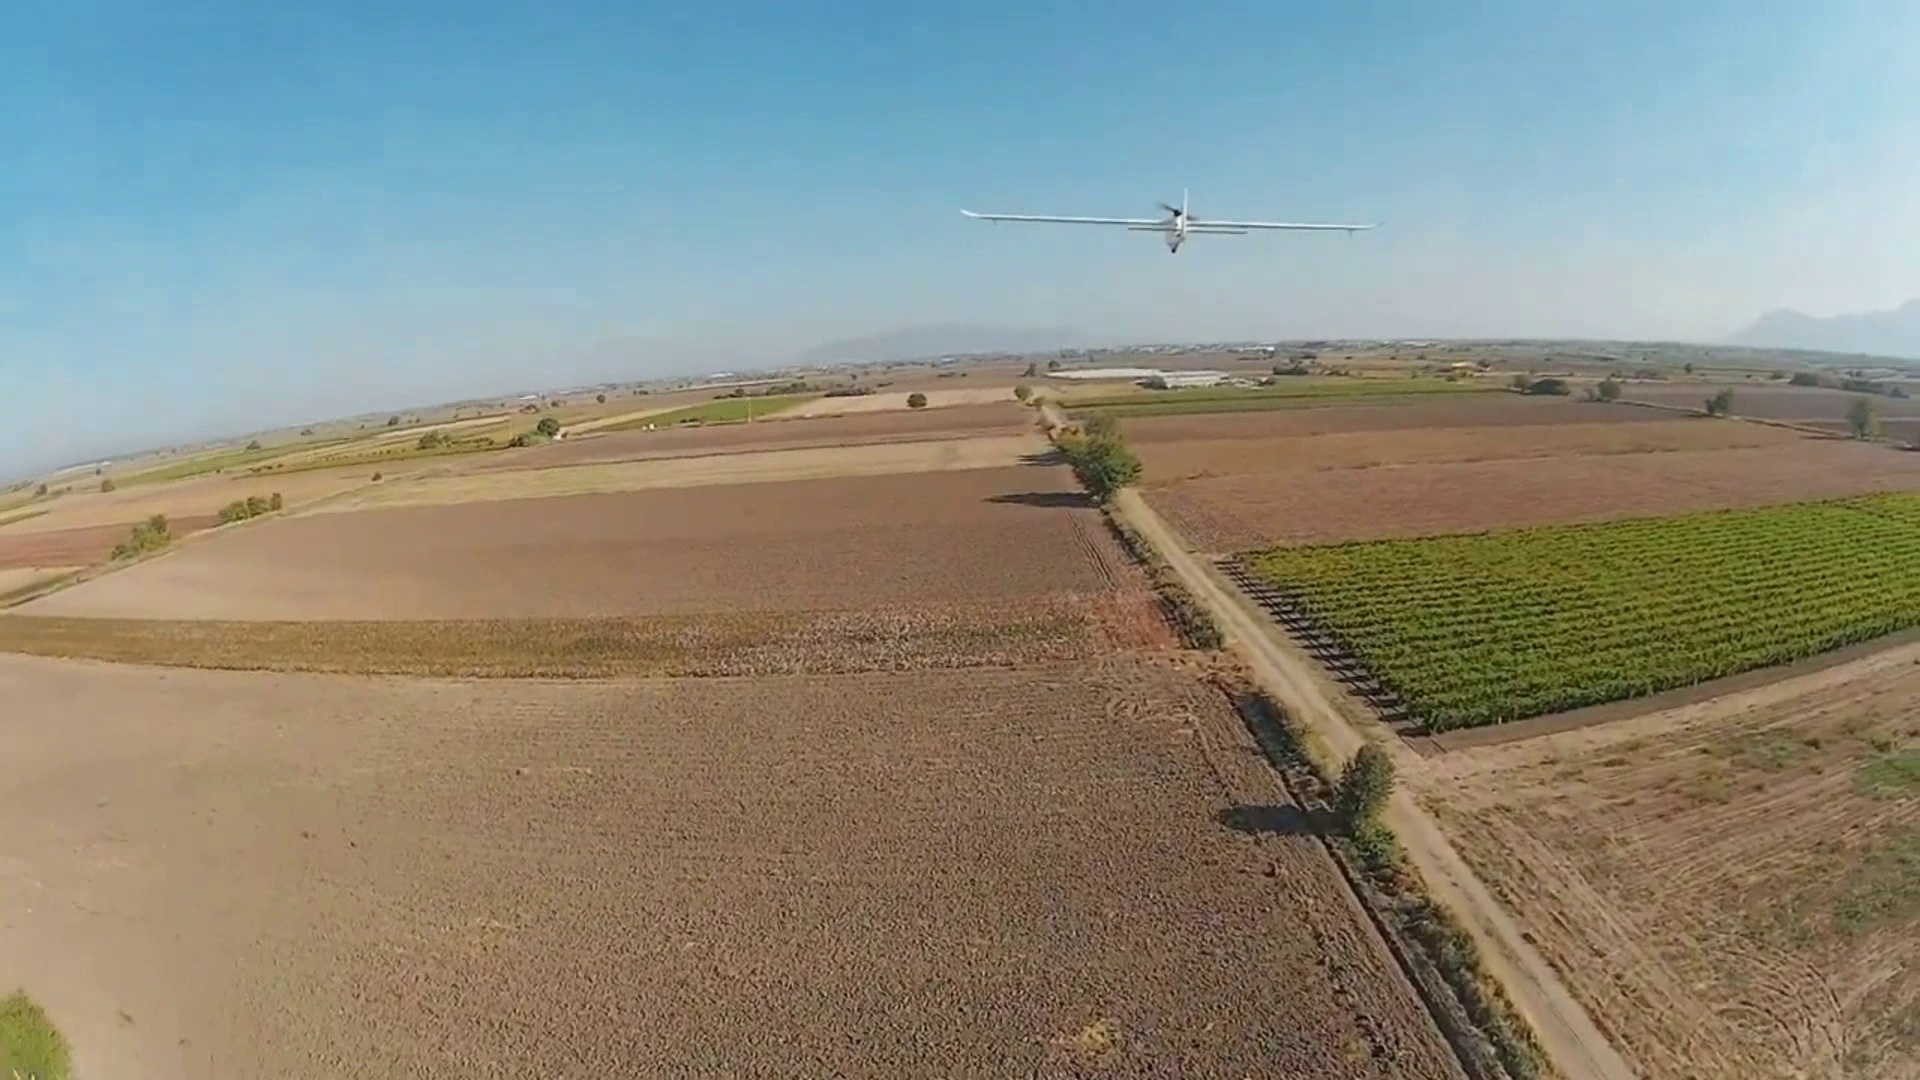airplane: (959, 195, 1379, 251)
